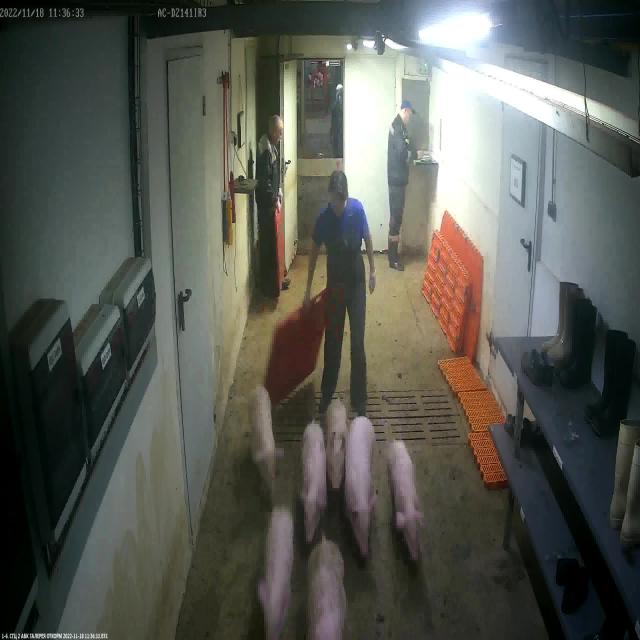pig: (257, 507, 297, 640), (386, 440, 425, 571), (346, 416, 378, 561), (305, 539, 348, 640), (299, 421, 327, 552), (251, 386, 281, 497), (326, 399, 348, 492)
